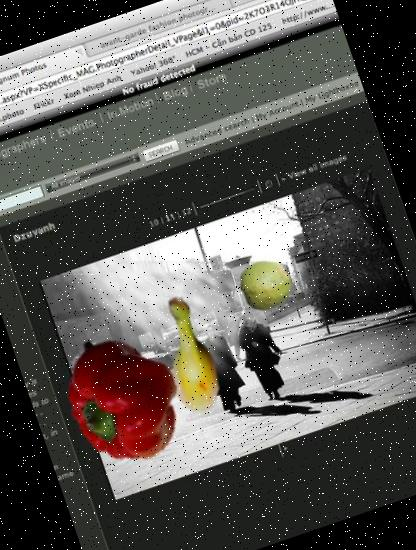Banana: (114, 276, 269, 431)
Limes: (234, 252, 300, 318)
Pepper: (43, 316, 207, 480)
